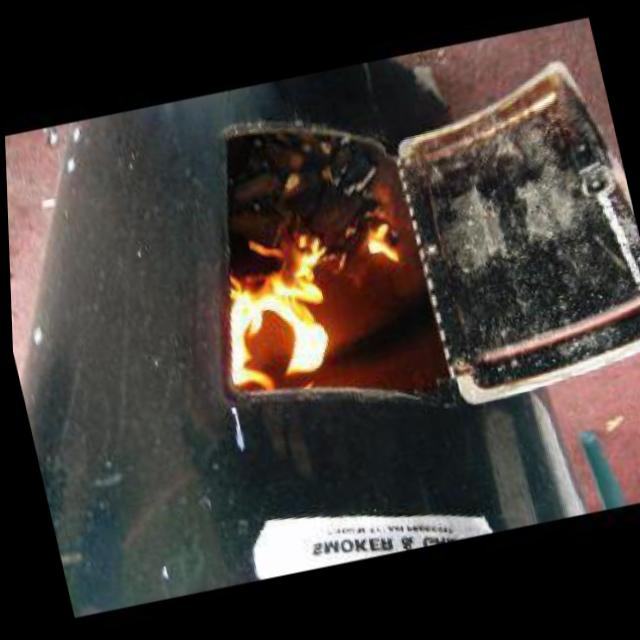Fire: (198, 209, 429, 412)
